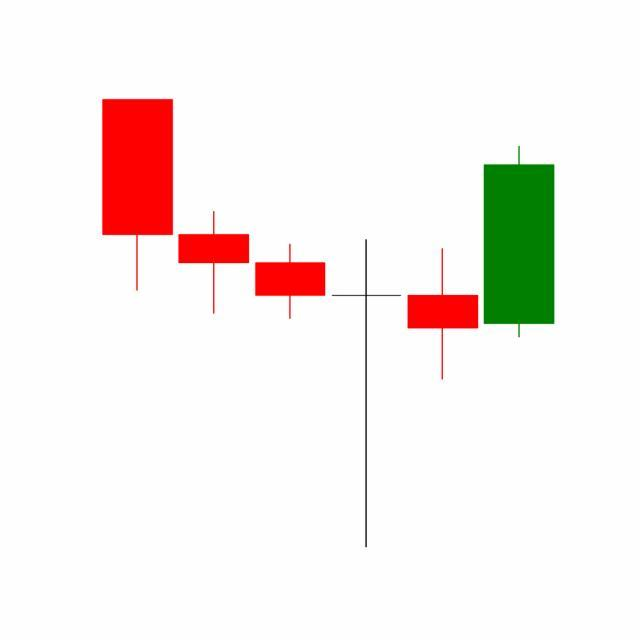Hikkake Pattern: (175, 142, 555, 549)
